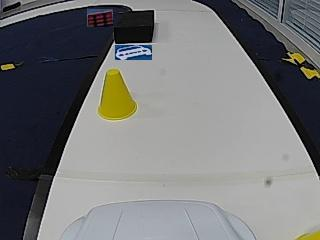block: (114, 9, 154, 43)
cone: (98, 69, 137, 120)
